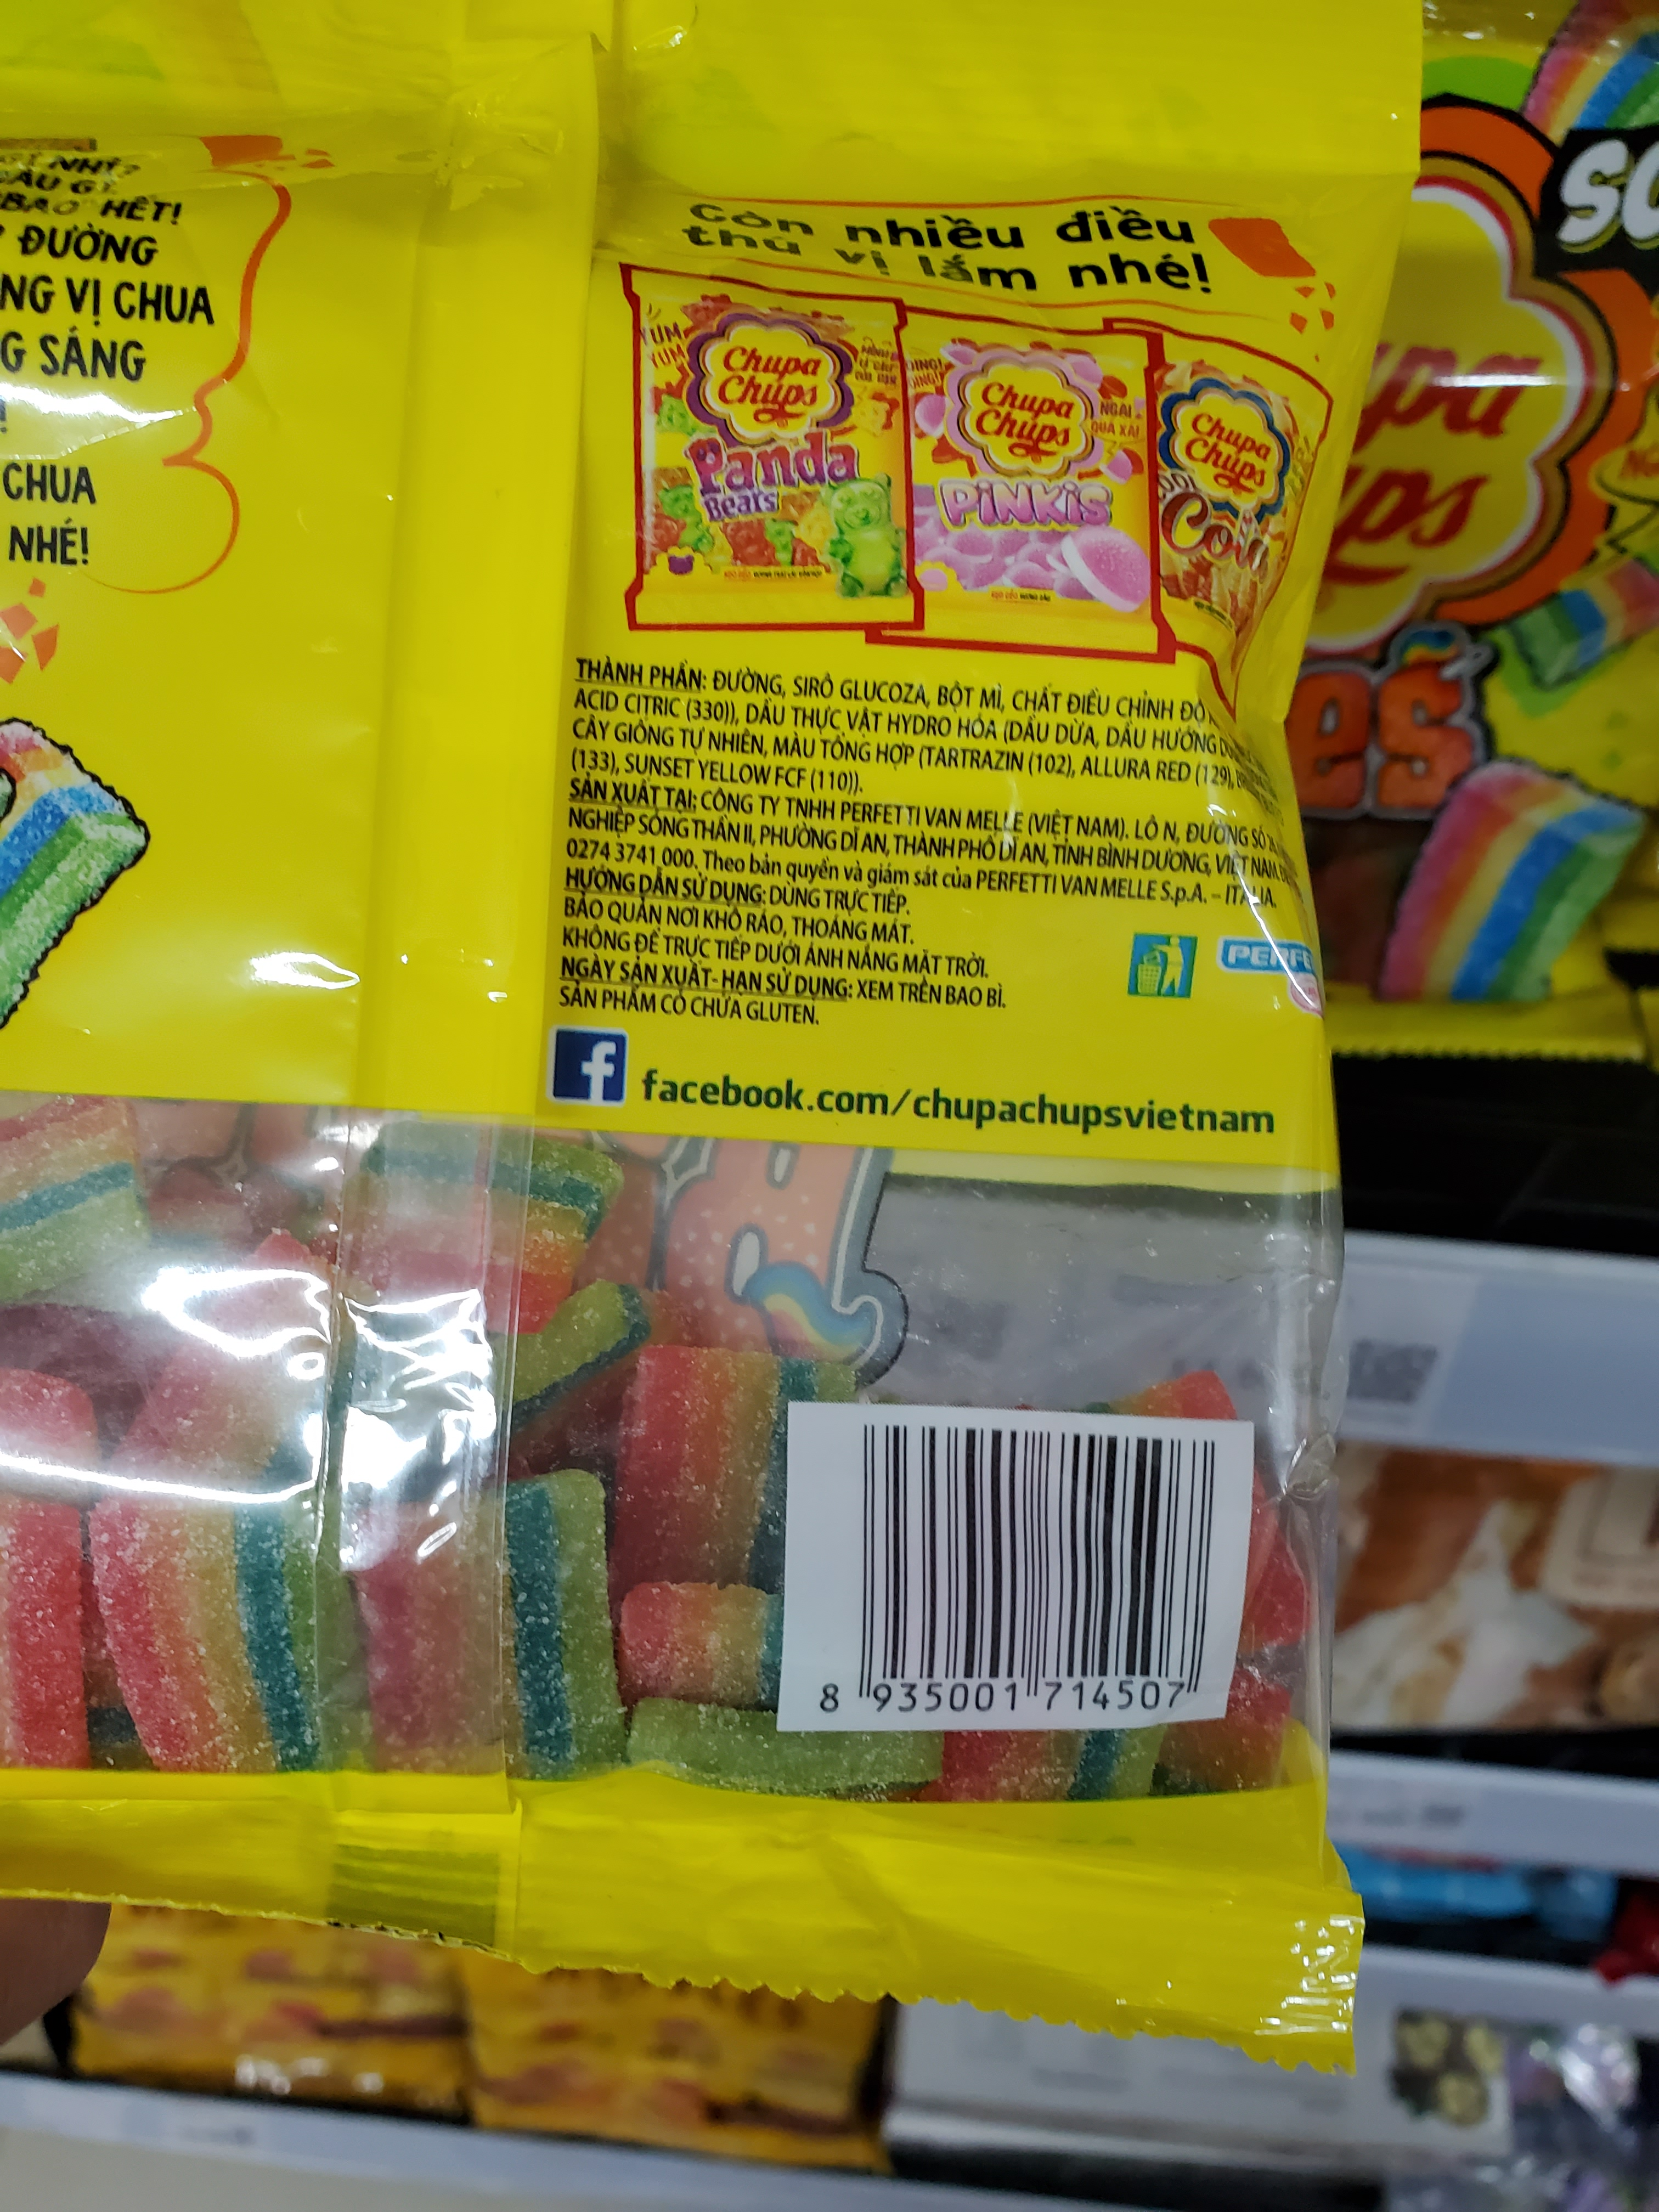barcode: (789, 1413, 1236, 1737)
